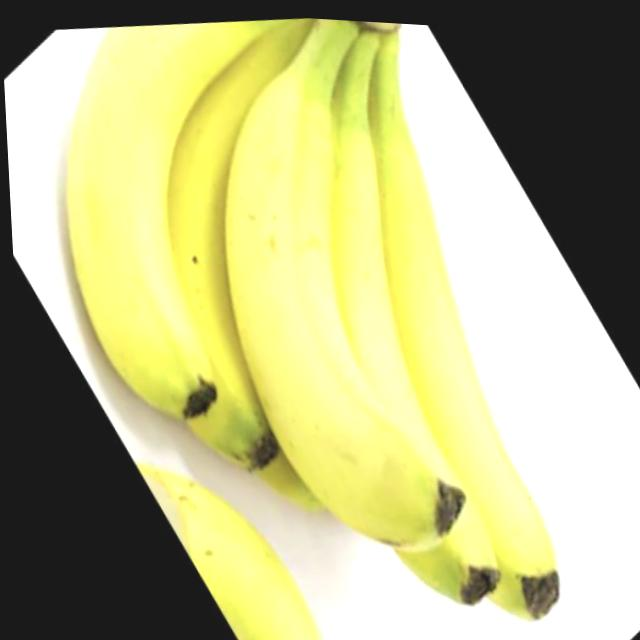Banana: (35, 2, 563, 640), (129, 441, 322, 640)
